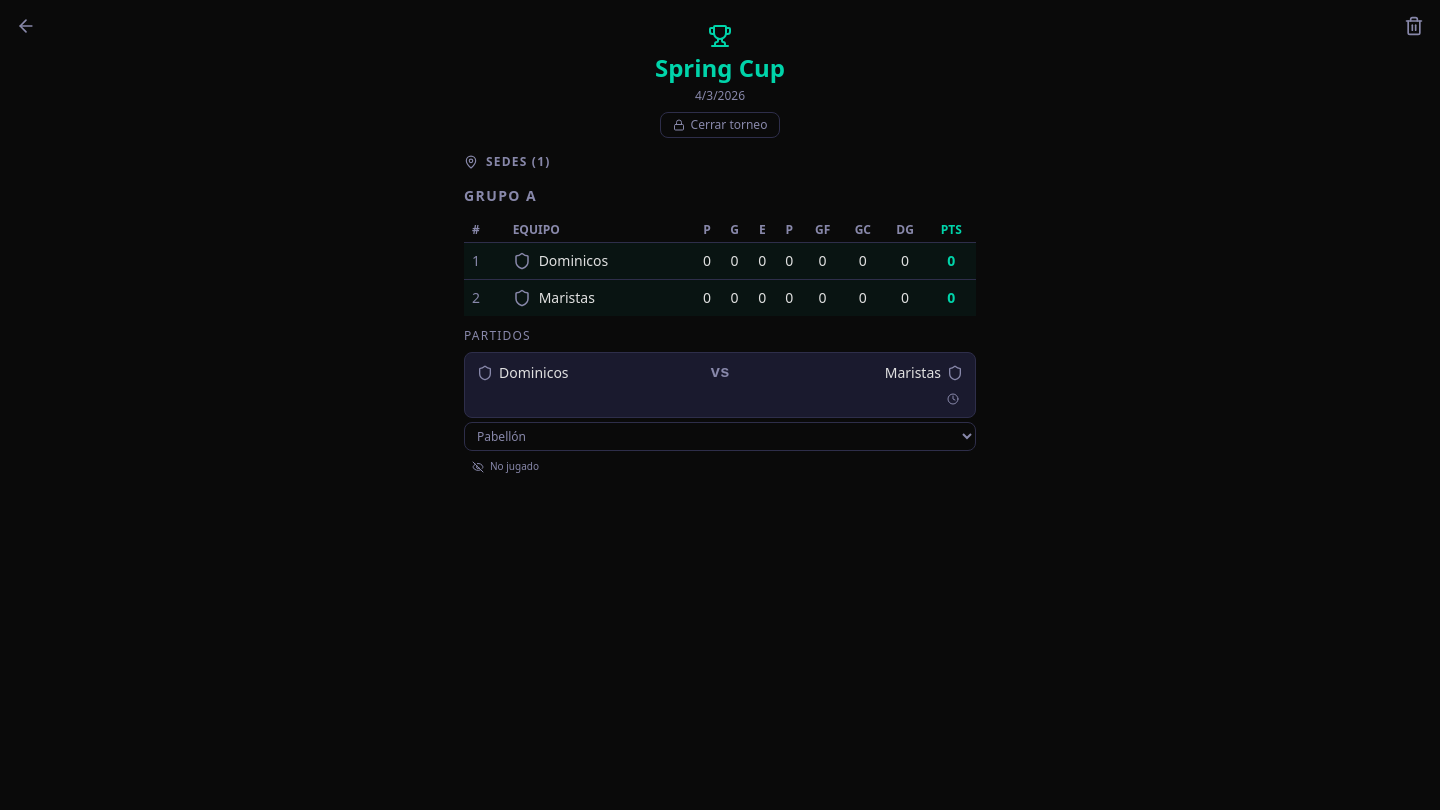
Scenario: TournamentPage — venue features › blocks delete when venue is in use and shows error
This screenshot has width=1440, height=810.
Click the button "Sedes (1)" at (512, 162), box [464,154,976,170]
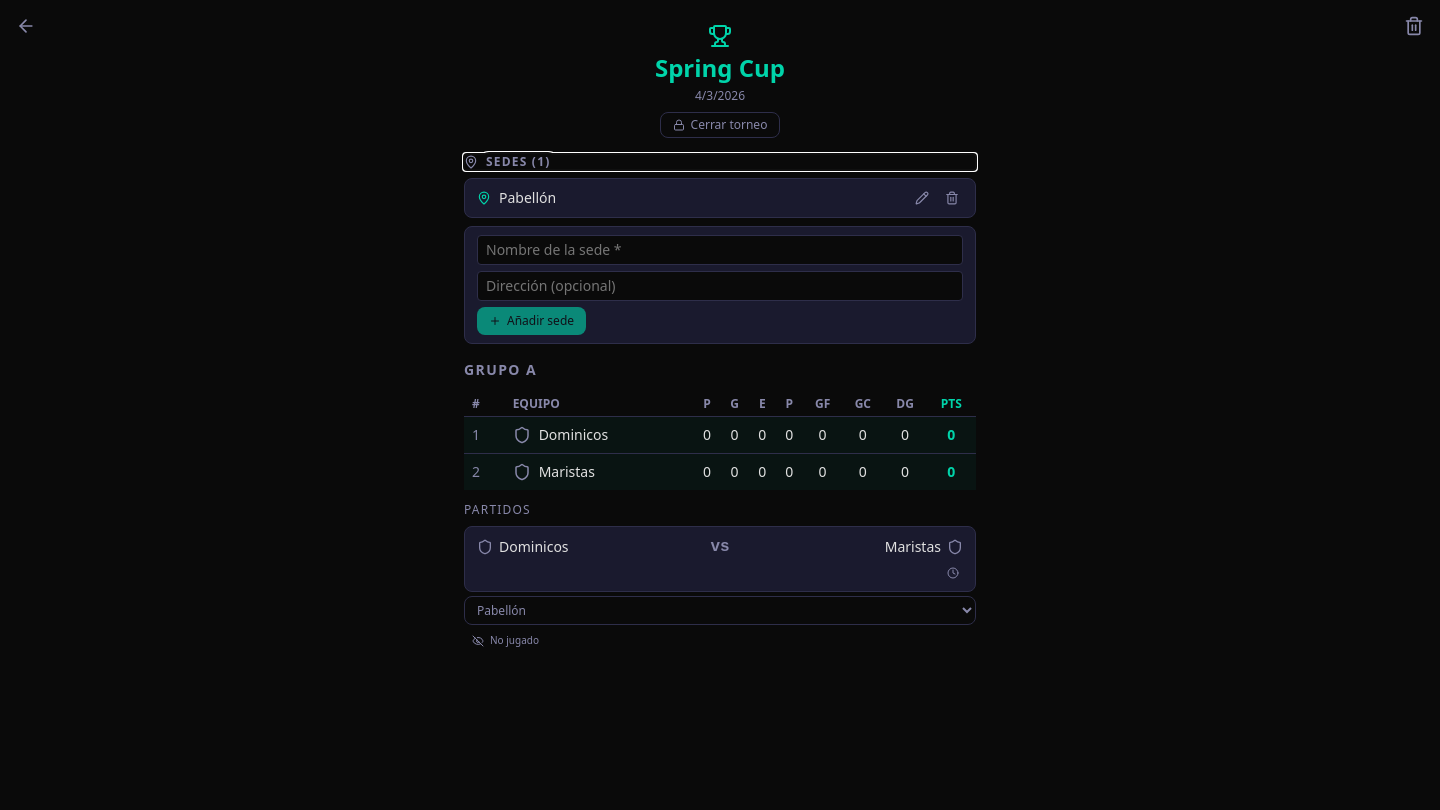
Click the button named "Eliminar Pabellón" at (952, 198), box [941,187,963,209]
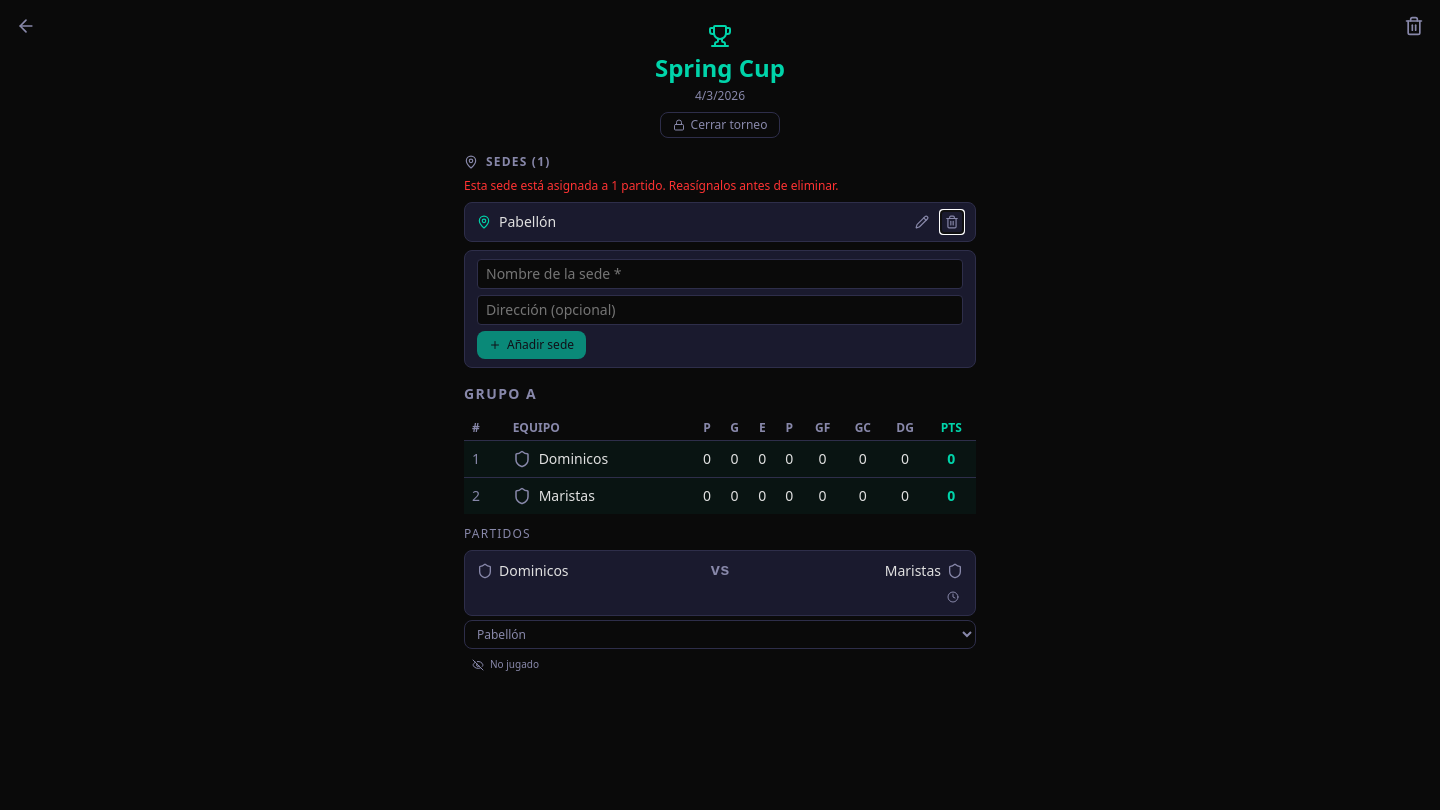
Now the text "asignada a 1 partido" is shown, box [464,177,838,194]
